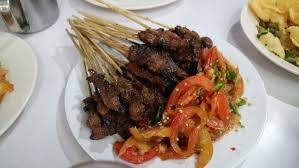sate: (76, 16, 255, 160)
